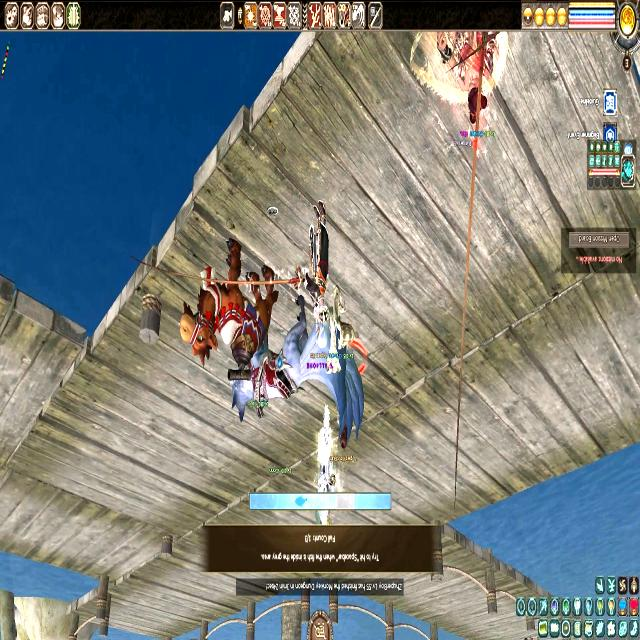fishes: (296, 494, 308, 508)
